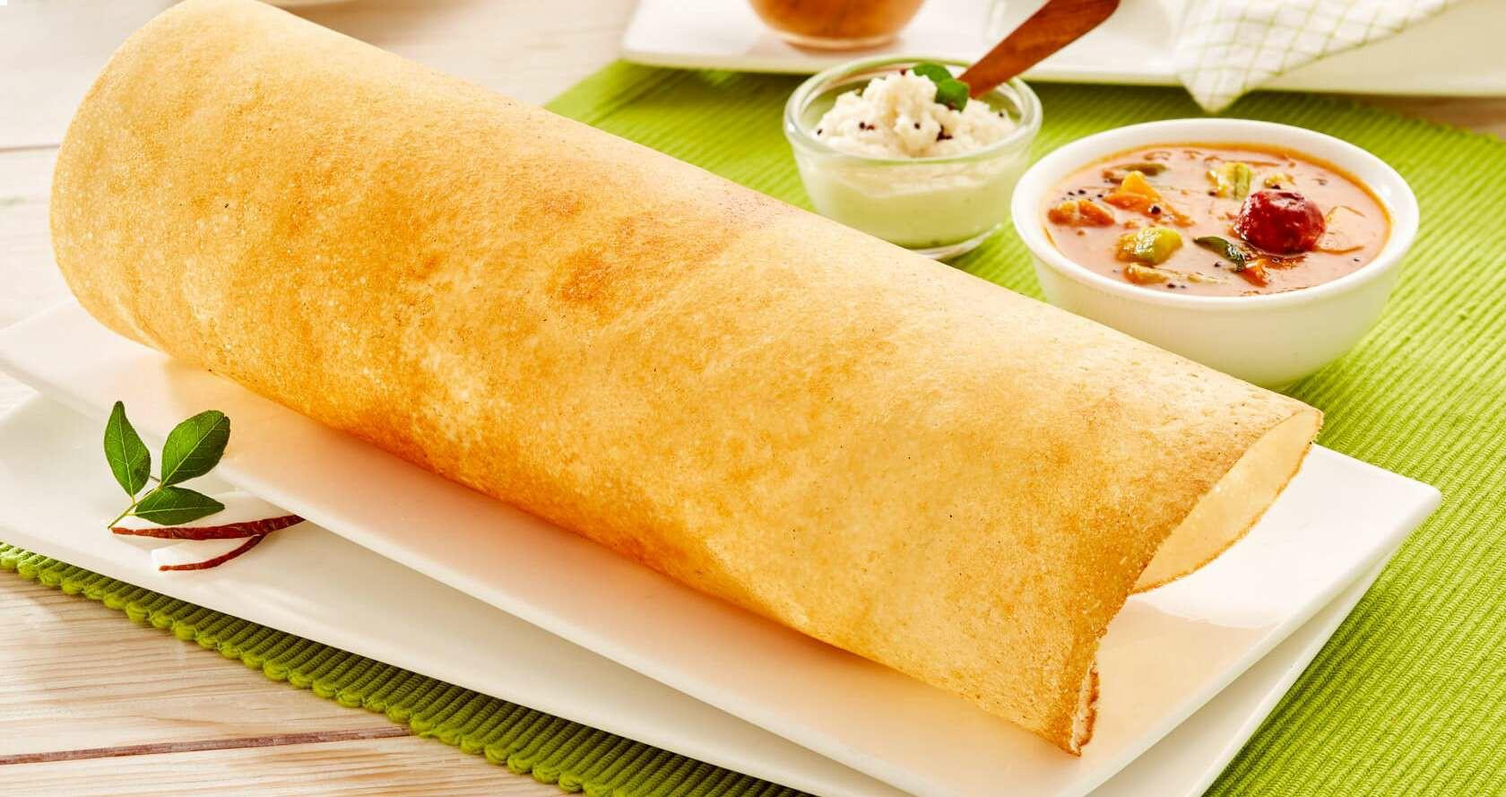CoconutChutney: (809, 69, 1025, 246)
Dosa: (52, 0, 1326, 758)
